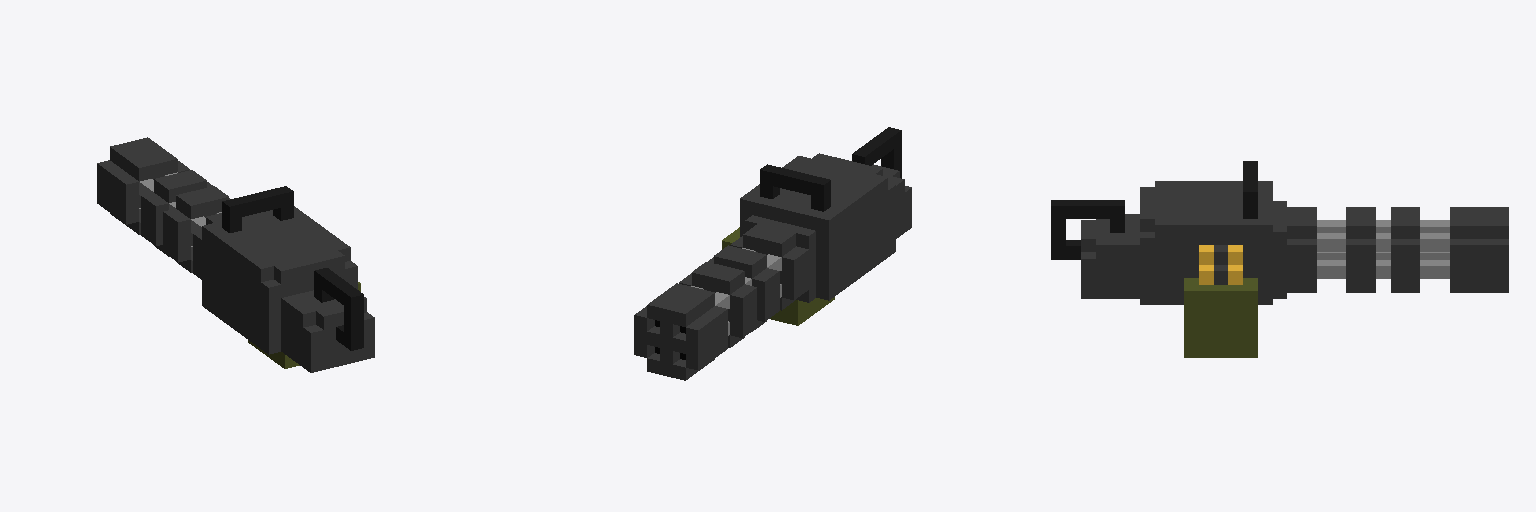
3 views of the same model, side by side, from view 1: azimuth 30°, elevation 25°; view 2: azimuth 150°, elevation 25°; view 3: azimuth 270°, elevation 25° (orthographic).
Parts seen in each view (by area): view 1: object 1; view 2: object 1; view 3: object 1.
Part boxes in pixels (x1,y1,x2,y2): object 1: (97,137,374,372); object 1: (634,127,911,380); object 1: (1051,161,1508,357).
Bounding box in the file's own units: 0.9 × 1.1 × 3.1.
1 materials, 1 textured.